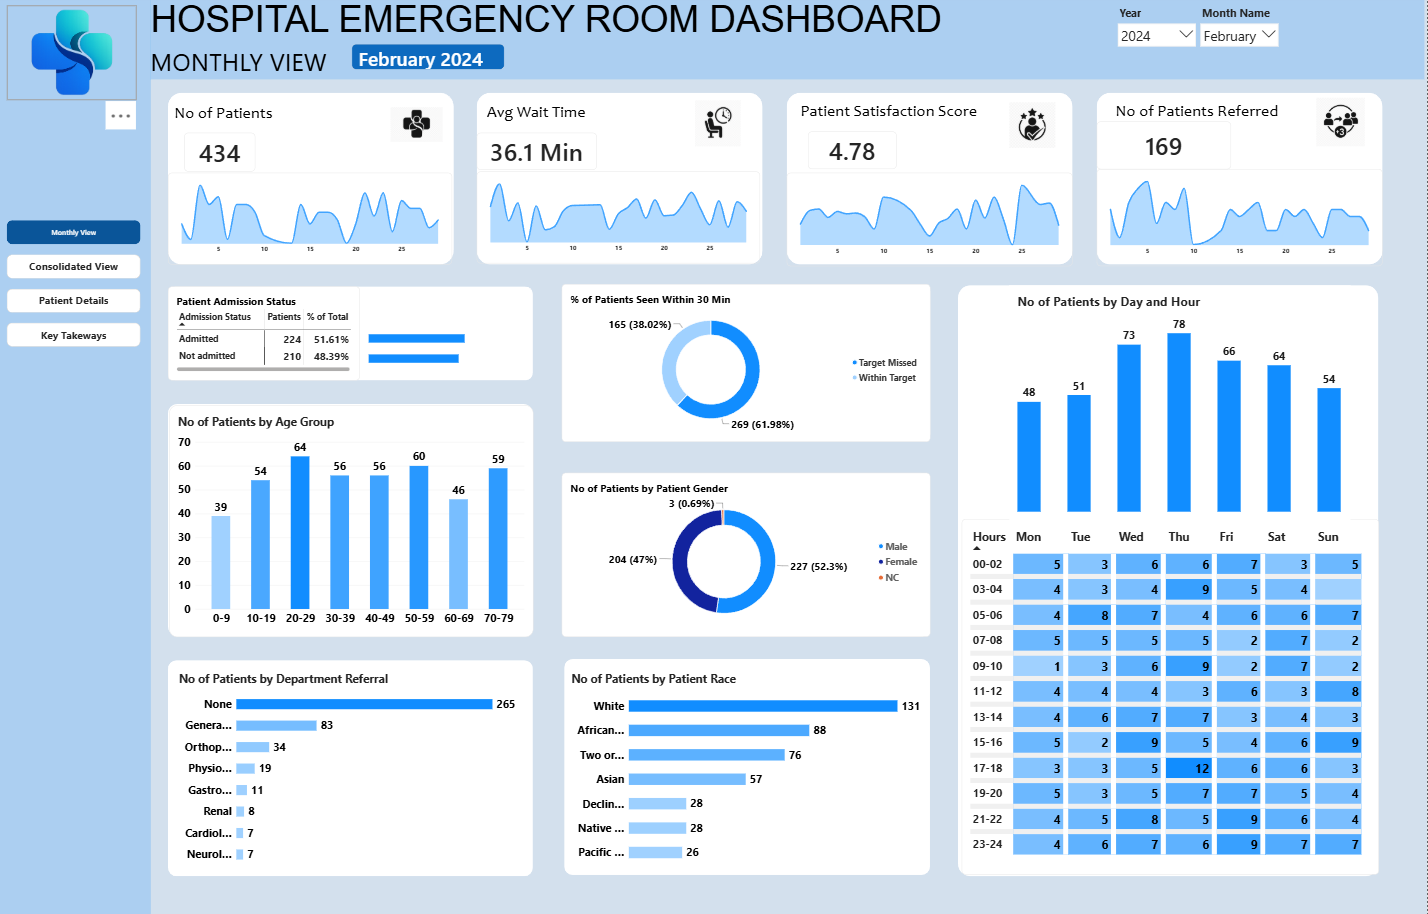

Layout of this report page (visuals, bound fields, positions):
{"tool":"powerbi","page":{"name":"Monthly View","canvas":[2800,1800],"ordinal":0},"visuals":[{"type":"shape","box":[0,0,299.7,1797.9],"z":0},{"type":"shape","box":[299.8,0,2496.4,157.8],"z":1000},{"type":"textbox","box":[299.7,0,1587.6,105.1],"z":2000},{"type":"shape","box":[333.8,184,559.9,336.5],"z":3000},{"type":"textbox","box":[299.8,88.4,498.7,69.4],"z":4000},{"type":"card","fields":{"Values":["Hospital ER_Data.No of Patients"]},"box":[365.4,262.9,139.3,76.2],"z":5000},{"type":"slicer","fields":{"Values":["Date Table.Year"]},"box":[2190,12.5,162.5,127.5],"z":6000},{"type":"textbox","box":[344.3,202.4,281.3,42.1],"z":7000},{"type":"shape","box":[1545.6,184,559.9,336.5],"z":8000},{"type":"card","fields":{"Values":["Hospital ER_Data.Satisfaction Score"]},"box":[1587.6,260.2,173.5,73.6],"z":9000},{"type":"textbox","box":[1571.7,198.8,378.7,41],"z":10000},{"type":"areaChart","fields":{"Y":["Hospital ER_Data.Satisfaction Score"],"Category":["Date Table.Date.Variation.Date Hierarchy.Day"]},"box":[1546.7,340,560,183.3],"z":11000},{"type":"shape","box":[938.4,184,559.9,336.5],"z":12000},{"type":"card","fields":{"Values":["Hospital ER_Data.Avg Wait Time"]},"box":[937.5,262.5,235,72.5],"z":13000},{"type":"textbox","box":[956.8,199.8,294.4,42.1],"z":14000},{"type":"shape","box":[2152.8,184,559.9,336.5],"z":15000},{"type":"card","fields":{"Values":["Hospital ER_Data.No of patients referred"]},"box":[2153.3,240,263.3,93.3],"z":16000},{"type":"textbox","box":[2190.3,198.8,388.2,41],"z":17000},{"type":"areaChart","fields":{"Category":["Date Table.Date.Variation.Date Hierarchy.Day"],"Y":["Hospital ER_Data.No of patients referred"]},"box":[2153.3,333.3,560,190],"z":18000},{"type":"shape","box":[333.8,562.5,715,184],"z":19000},{"type":"pivotTable","title":"Patient Admission Status","fields":{"Rows":["Hospital ER_Data.Admission Status"],"Values":["Hospital ER_Data.No of Patients1","Hospital ER_Data.No of Patients"]},"box":[333.8,562.5,375.9,184],"z":20000},{"type":"barChart","fields":{"Category":["Hospital ER_Data.Admission Status"],"Y":["Hospital ER_Data.No of Patients"]},"box":[709.7,615.1,283.9,136.7],"z":21000},{"type":"shape","box":[333.8,793.8,715,454.7],"z":22000},{"type":"clusteredColumnChart","fields":{"Category":["Hospital ER_Data.Age Group"],"Y":["Hospital ER_Data.No of Patients"]},"box":[334.5,795.3,713.3,454.5],"z":23000},{"type":"shape","box":[333.8,1295.9,715,423.2],"z":24000},{"type":"barChart","fields":{"Category":["Hospital ER_Data.Department Referral"],"Y":["Hospital ER_Data.No of Patients"]},"box":[337.7,1300.3,713.3,419.8],"z":25000},{"type":"shape","box":[1104.6,561.8,722.7,303],"z":26000},{"type":"donutChart","title":"% of Patients Seen Within 30 Min","fields":{"Category":["Hospital ER_Data.Waitetime Status"],"Y":["Hospital ER_Data.No of Patients"]},"box":[1104.6,558.6,722.7,309.3],"z":27000},{"type":"shape","box":[1110,1293.3,716.7,423.3],"z":28000},{"type":"barChart","fields":{"Y":["Hospital ER_Data.No of Patients"],"Category":["Hospital ER_Data.Patient Race"]},"box":[1107.8,1300.3,716.4,419.8],"z":29000},{"type":"shape","box":[1104.6,927.9,716.4,321.9],"z":30000},{"type":"donutChart","fields":{"Y":["Hospital ER_Data.No of Patients"],"Category":["Hospital ER_Data.Patient Gender"]},"box":[1104.6,927.9,722.7,321.9],"z":31000},{"type":"shape","box":[1881,561.8,823.7,1158.3],"z":32000},{"type":"pivotTable","fields":{"Rows":["Hospital ER_Data.Waitetime Interval"],"Columns":["Date Table.Date Name"],"Values":["Hospital ER_Data.No of Patients"]},"box":[1888.2,1020,817.6,696.9],"z":33000},{"type":"columnChart","title":"No of Patients by Day and Hour","fields":{"Category":["Date Table.Date Name"],"Y":["Hospital ER_Data.No of Patients"]},"box":[1982,561.8,669.1,460.8],"z":34000},{"type":"areaChart","fields":{"Category":["Date Table.Date.Variation.Date Hierarchy.Day"],"Y":["Hospital ER_Data.No of Patients"]},"box":[333.3,340,556.7,180],"z":35000},{"type":"pageNavigator","box":[17.5,432.5,262.5,250],"z":36000},{"type":"slicer","fields":{"Values":["Date Table.Month Name"]},"box":[2352.5,12.5,162.5,127.5],"z":37000},{"type":"cardVisual","fields":{"Data":["Min(Date Table.Month & Year)"]},"box":[694.3,88.4,299.8,50.5],"z":38000},{"type":"areaChart","fields":{"Category":["Date Table.Date.Variation.Date Hierarchy.Day"],"Y":["Avg(Hospital ER_Data.Patient Waittime)"]},"box":[937.3,337.7,555.5,179.9],"z":39000},{"type":"image","box":[17.5,12.5,255,185],"z":40000},{"type":"image","box":[1360,197.5,102.5,90],"z":41000},{"type":"image","box":[2577.5,192.5,107.5,95],"z":42000},{"type":"image","box":[1982.5,195,90,102.5],"z":43000},{"type":"image","box":[770,200,102.5,90],"z":44000}]}

Visuals, with their boxes on the page's 2800x1800 design canvas (x1, y1, x2, y2). These are canvas units, not pixel positions in the 1428x914 screenshot, which may show the page scaled, cropped or inside an application window:
shape: Rect(0, 0, 300, 1798)
shape: Rect(300, 0, 2796, 158)
textbox: Rect(300, 0, 1887, 105)
shape: Rect(334, 184, 894, 520)
textbox: Rect(300, 88, 798, 158)
card - Hospital ER_Data.No of Patients: Rect(365, 263, 505, 339)
slicer - Date Table.Year: Rect(2190, 12, 2352, 140)
textbox: Rect(344, 202, 626, 244)
shape: Rect(1546, 184, 2106, 520)
card - Hospital ER_Data.Satisfaction Score: Rect(1588, 260, 1761, 334)
textbox: Rect(1572, 199, 1950, 240)
areaChart - Hospital ER_Data.Satisfaction Score x Date Table.Date.Variation.Date Hierarchy.Day: Rect(1547, 340, 2107, 523)
shape: Rect(938, 184, 1498, 520)
card - Hospital ER_Data.Avg Wait Time: Rect(938, 262, 1172, 335)
textbox: Rect(957, 200, 1251, 242)
shape: Rect(2153, 184, 2713, 520)
card - Hospital ER_Data.No of patients referred: Rect(2153, 240, 2417, 333)
textbox: Rect(2190, 199, 2578, 240)
areaChart - Date Table.Date.Variation.Date Hierarchy.Day x Hospital ER_Data.No of patients referred: Rect(2153, 333, 2713, 523)
shape: Rect(334, 562, 1049, 746)
"Patient Admission Status" pivotTable: Rect(334, 562, 710, 746)
barChart - Hospital ER_Data.Admission Status x Hospital ER_Data.No of Patients: Rect(710, 615, 994, 752)
shape: Rect(334, 794, 1049, 1248)
clusteredColumnChart - Hospital ER_Data.Age Group x Hospital ER_Data.No of Patients: Rect(334, 795, 1048, 1250)
shape: Rect(334, 1296, 1049, 1719)
barChart - Hospital ER_Data.Department Referral x Hospital ER_Data.No of Patients: Rect(338, 1300, 1051, 1720)
shape: Rect(1105, 562, 1827, 865)
"% of Patients Seen Within 30 Min" donutChart: Rect(1105, 559, 1827, 868)
shape: Rect(1110, 1293, 1827, 1717)
barChart - Hospital ER_Data.No of Patients x Hospital ER_Data.Patient Race: Rect(1108, 1300, 1824, 1720)
shape: Rect(1105, 928, 1821, 1250)
donutChart - Hospital ER_Data.No of Patients x Hospital ER_Data.Patient Gender: Rect(1105, 928, 1827, 1250)
shape: Rect(1881, 562, 2705, 1720)
pivotTable - Hospital ER_Data.Waitetime Interval x Date Table.Date Name: Rect(1888, 1020, 2706, 1717)
"No of Patients by Day and Hour" columnChart: Rect(1982, 562, 2651, 1023)
areaChart - Date Table.Date.Variation.Date Hierarchy.Day x Hospital ER_Data.No of Patients: Rect(333, 340, 890, 520)
pageNavigator: Rect(18, 432, 280, 682)
slicer - Date Table.Month Name: Rect(2352, 12, 2515, 140)
cardVisual - Min(Date Table.Month & Year): Rect(694, 88, 994, 139)
areaChart - Date Table.Date.Variation.Date Hierarchy.Day x Avg(Hospital ER_Data.Patient Waittime): Rect(937, 338, 1493, 518)
image: Rect(18, 12, 272, 198)
image: Rect(1360, 198, 1462, 288)
image: Rect(2578, 192, 2685, 288)
image: Rect(1982, 195, 2072, 298)
image: Rect(770, 200, 872, 290)
